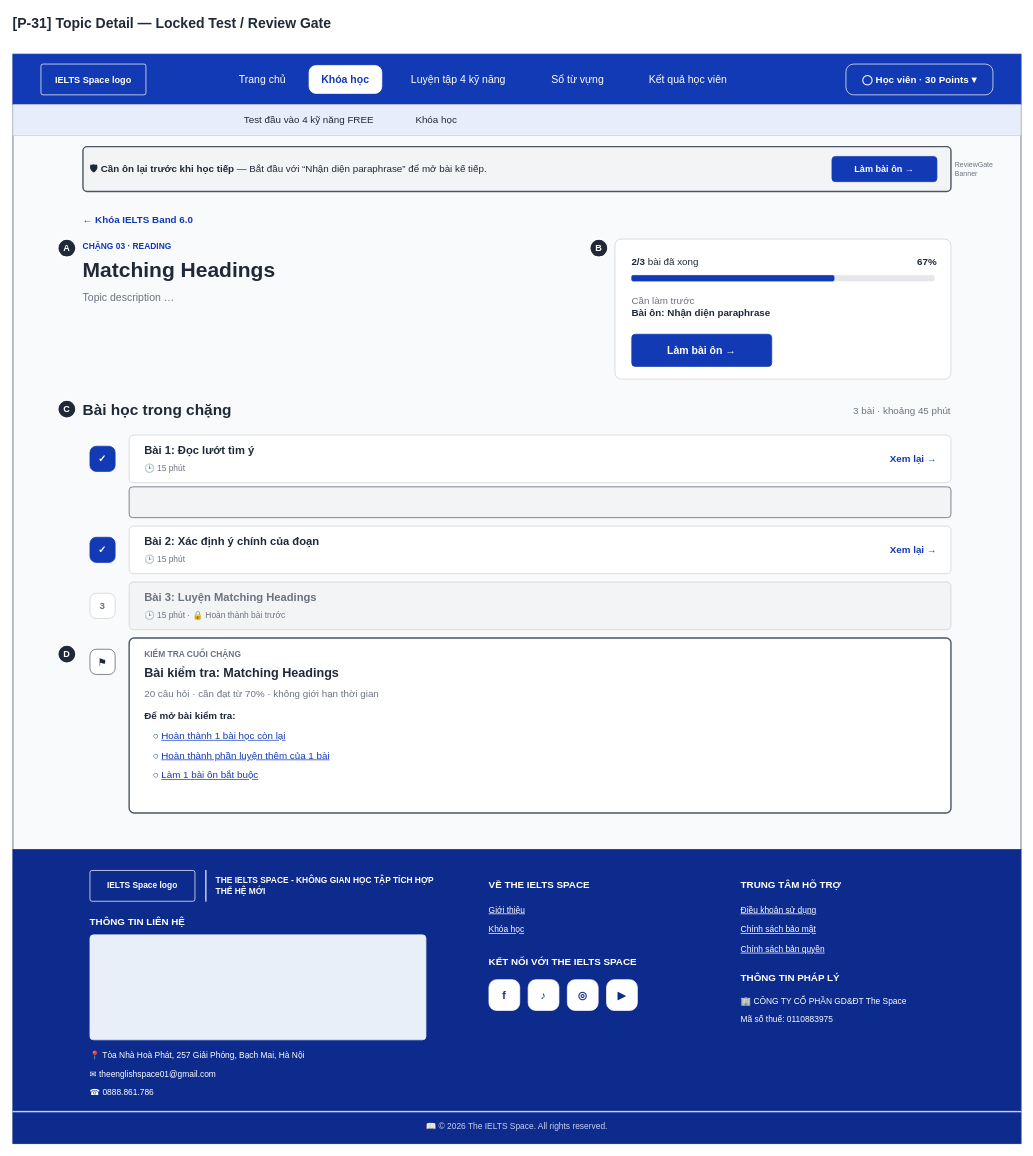
Image size: 1033x1156. Some labels were removed from this diagram. The shapes that lost their labels are listed below. From the top down, each one's centre as x and y in pixels, then its label:
At [539,502]: "🏋 Cần luyện thêm trước khi mở bài kiểm tra chặng — Luyện ngay → (P-33)".
At [257,987]: "📍 The IELTS Space Mở trong Maps ↗".
